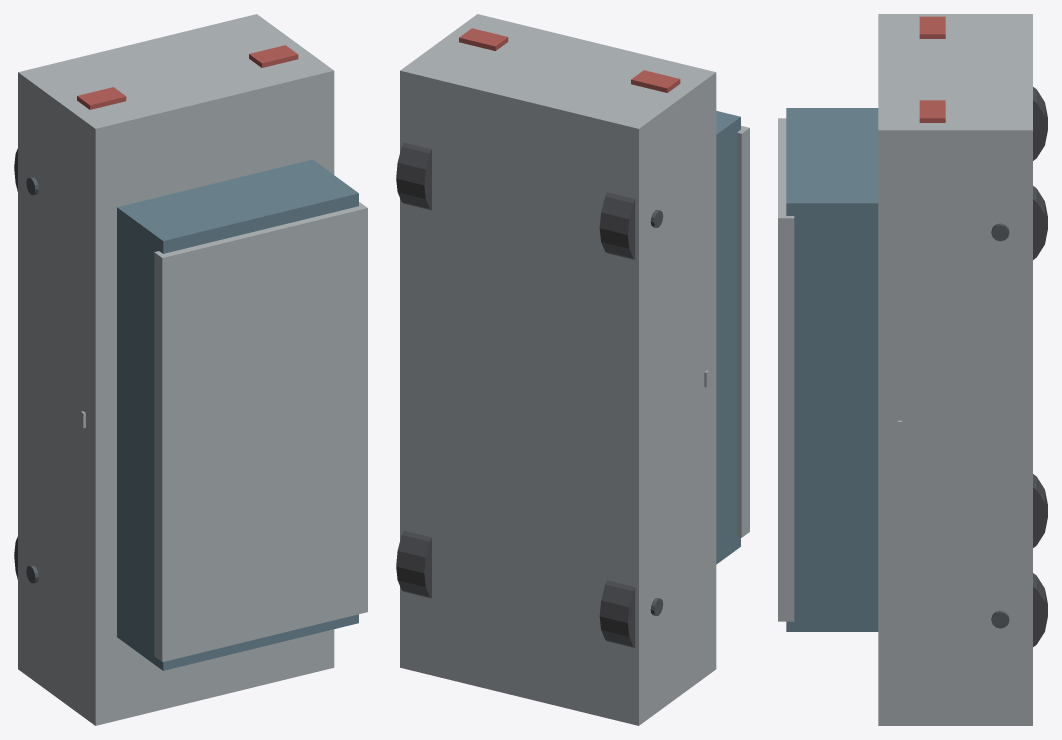
Rendered from family_minivan.glb.
The picture shows the model from 3 angles, left to right: view 1: azimuth 30°, elevation 25°; view 2: azimuth 150°, elevation 25°; view 3: azimuth 270°, elevation 25°; orthographic projection.
Visible parts, largest first — view 1: 0000_Car_body, 0003_Roof, 0002_Cabin_glass, 0009_Tail_lamp, 0007_Tail_lamp; view 2: 0000_Car_body, 0002_Cabin_glass, 0003_Roof, 0012_Wheel_tire, 0018_Wheel_tire, 0021_Wheel_tire, 0015_Wheel_tire, 0007_Tail_lamp, 0009_Tail_lamp; view 3: 0000_Car_body, 0002_Cabin_glass, 0003_Roof, 0018_Wheel_tire, 0021_Wheel_tire, 0012_Wheel_tire, 0015_Wheel_tire, 0009_Tail_lamp, 0007_Tail_lamp.
Part boxes in pixels (box(x1,y1,x2,y2)): 0000_Car_body: box(18, 14, 334, 725); 0003_Roof: box(154, 202, 367, 661); 0002_Cabin_glass: box(117, 159, 358, 670); 0009_Tail_lamp: box(249, 45, 298, 67); 0007_Tail_lamp: box(77, 87, 126, 109); 0000_Car_body: box(400, 14, 716, 725); 0002_Cabin_glass: box(716, 111, 740, 564); 0003_Roof: box(737, 126, 749, 537); 0012_Wheel_tire: box(599, 580, 635, 647); 0018_Wheel_tire: box(599, 192, 635, 259); 0021_Wheel_tire: box(396, 142, 431, 210); 0015_Wheel_tire: box(396, 530, 431, 598); 0007_Tail_lamp: box(631, 70, 680, 92); 0009_Tail_lamp: box(459, 28, 508, 50); 0000_Car_body: box(878, 14, 1032, 725); 0002_Cabin_glass: box(786, 108, 878, 631); 0003_Roof: box(778, 118, 794, 621); 0018_Wheel_tire: box(1033, 87, 1047, 160); 0021_Wheel_tire: box(1033, 186, 1047, 259); 0012_Wheel_tire: box(1033, 474, 1047, 547); 0015_Wheel_tire: box(1033, 573, 1047, 646); 0009_Tail_lamp: box(919, 100, 945, 122); 0007_Tail_lamp: box(919, 16, 945, 38).
Size of the model in its own units: 2.09 by 4.95 by 1.99.
